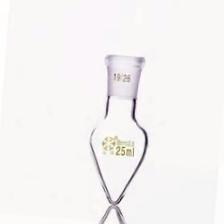Pear shaped flask: (82, 41, 149, 207)
